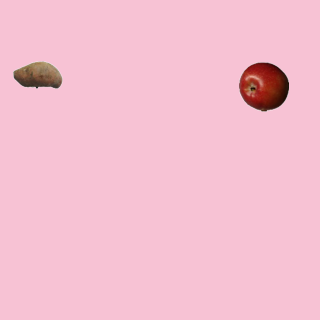Apple Braeburn: (238, 61, 288, 111)
Potato Sweet: (12, 49, 62, 99)
